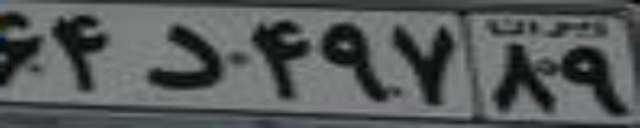4: (48, 13, 113, 91), (249, 20, 312, 99)
6: (1, 9, 40, 91)
7: (388, 22, 464, 106)
8: (491, 45, 557, 112)
9: (317, 21, 388, 101), (561, 43, 636, 116)
dal: (144, 24, 226, 88)
